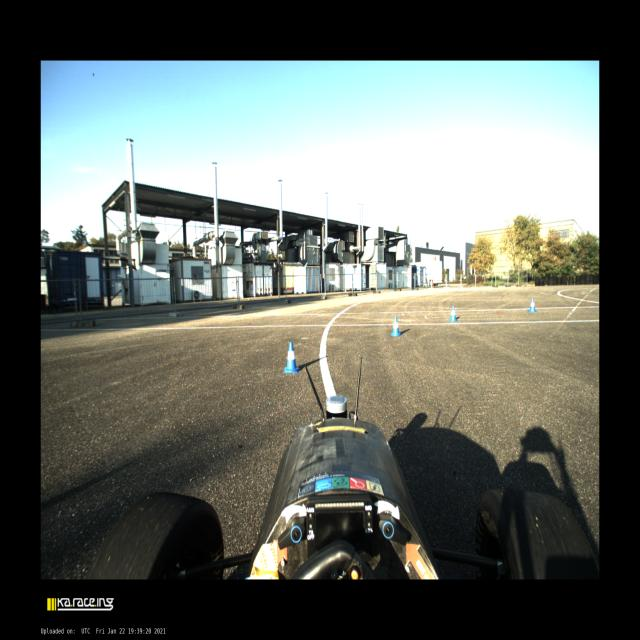blue_cone: (284, 341, 300, 373), (390, 316, 402, 336), (528, 298, 537, 312), (449, 306, 457, 321)
